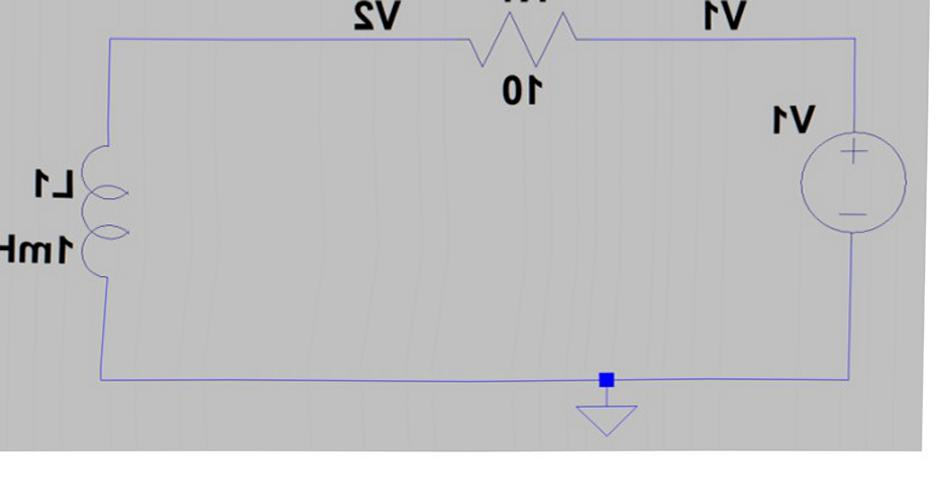Battery: (775, 121, 924, 278)
